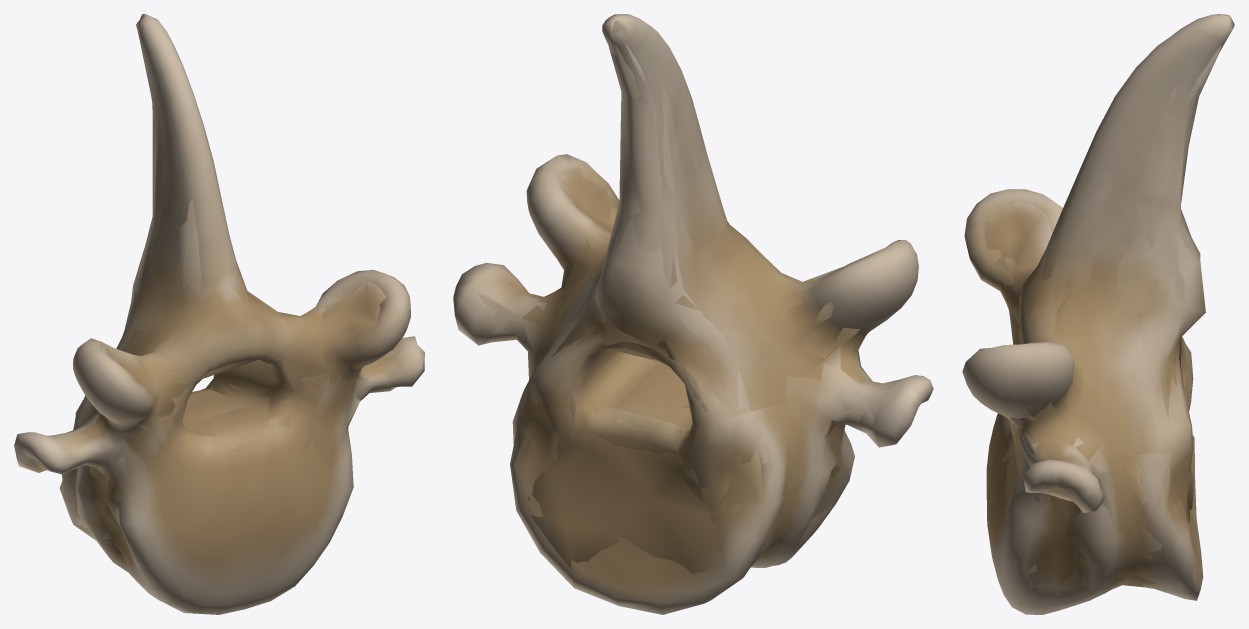
File: vertebrae thoracicae 01.fbx
3 views of the same model, side by side, from view 1: azimuth 30°, elevation 25°; view 2: azimuth 150°, elevation 25°; view 3: azimuth 270°, elevation 25° (orthographic). The views are drawn at different scales.
Parts seen in each view (by area): view 1: vertebrae thoracicae 01, vertebrae thoracicae 01 low; view 2: vertebrae thoracicae 01, vertebrae thoracicae 01 low; view 3: vertebrae thoracicae 01, vertebrae thoracicae 01 low.
Boxes of the visible parts, x1=… form: vertebrae thoracicae 01: x1=14, y1=14, x2=424, y2=614; vertebrae thoracicae 01 low: x1=29, y1=42, x2=397, y2=563; vertebrae thoracicae 01: x1=453, y1=14, x2=933, y2=614; vertebrae thoracicae 01 low: x1=477, y1=43, x2=881, y2=605; vertebrae thoracicae 01: x1=962, y1=14, x2=1234, y2=614; vertebrae thoracicae 01 low: x1=984, y1=46, x2=1220, y2=595.
Size of the model in its own units: 13.15 by 16.88 by 7.16.
1 material, 1 textured.
